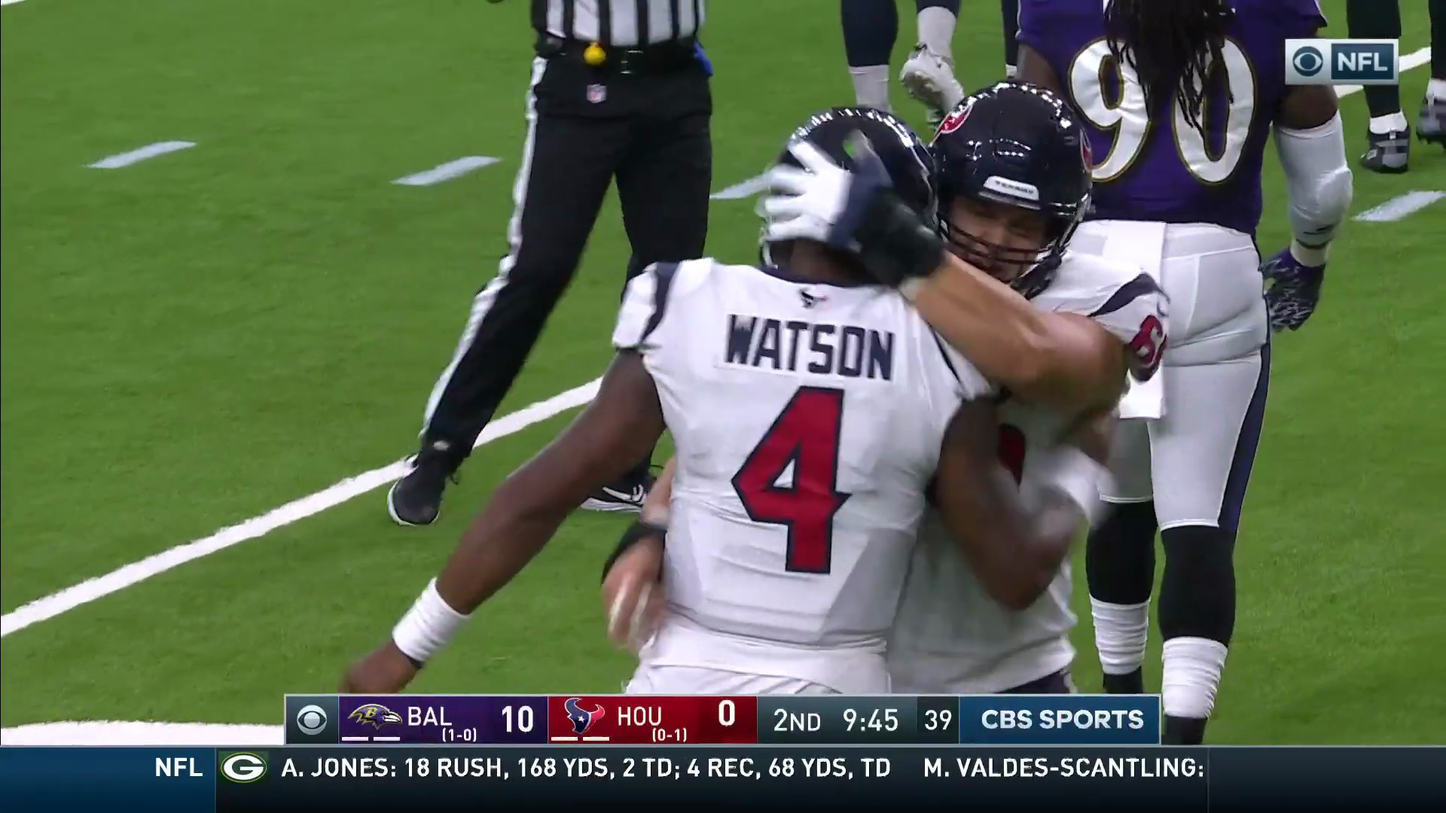Player: (548, 131, 1027, 667)
